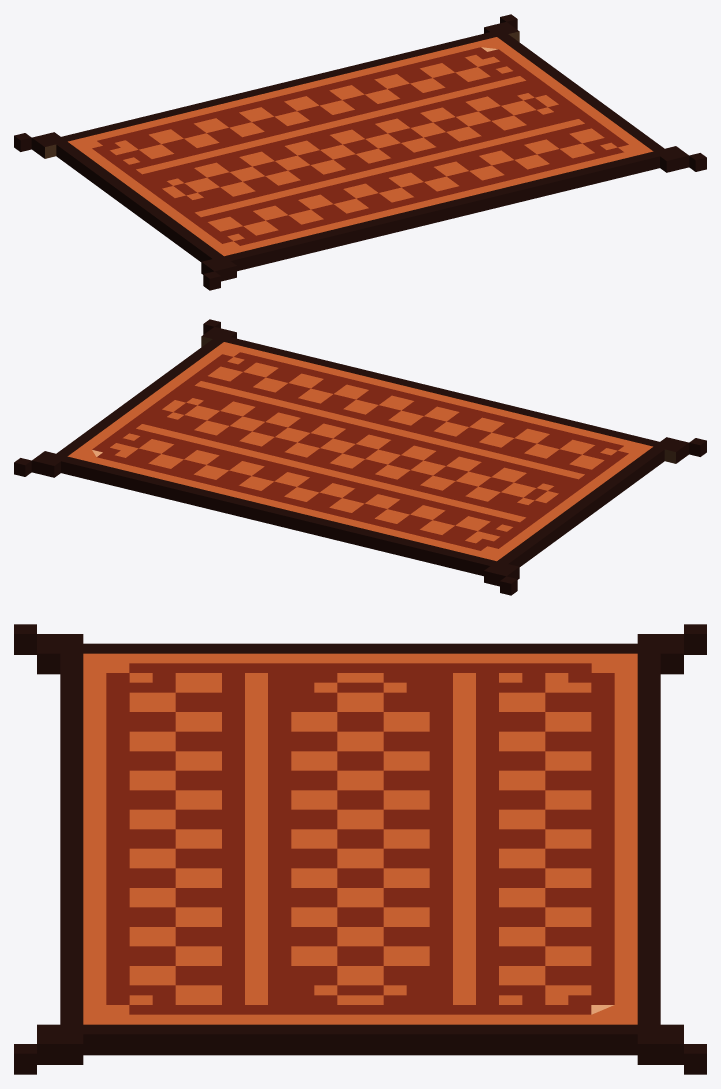
The model's file is Living Room Carpet 1.FBX.
3 views of the same model, one above another, from view 1: azimuth 30°, elevation 25°; view 2: azimuth 150°, elevation 25°; view 3: azimuth 270°, elevation 25° (orthographic). The views are drawn at different scales.
Parts seen in each view (by area): view 1: Living Room Carpet 1; view 2: Living Room Carpet 1; view 3: Living Room Carpet 1.
Part boxes in pixels (box(x1,y1,x2,y2)): Living Room Carpet 1: box(14, 14, 706, 290); Living Room Carpet 1: box(14, 319, 706, 595); Living Room Carpet 1: box(14, 624, 706, 1074).
Bounding box in the file's own units: 13.64 × 0.3099 × 9.3.
Materials: 4 (1 with a texture image).
